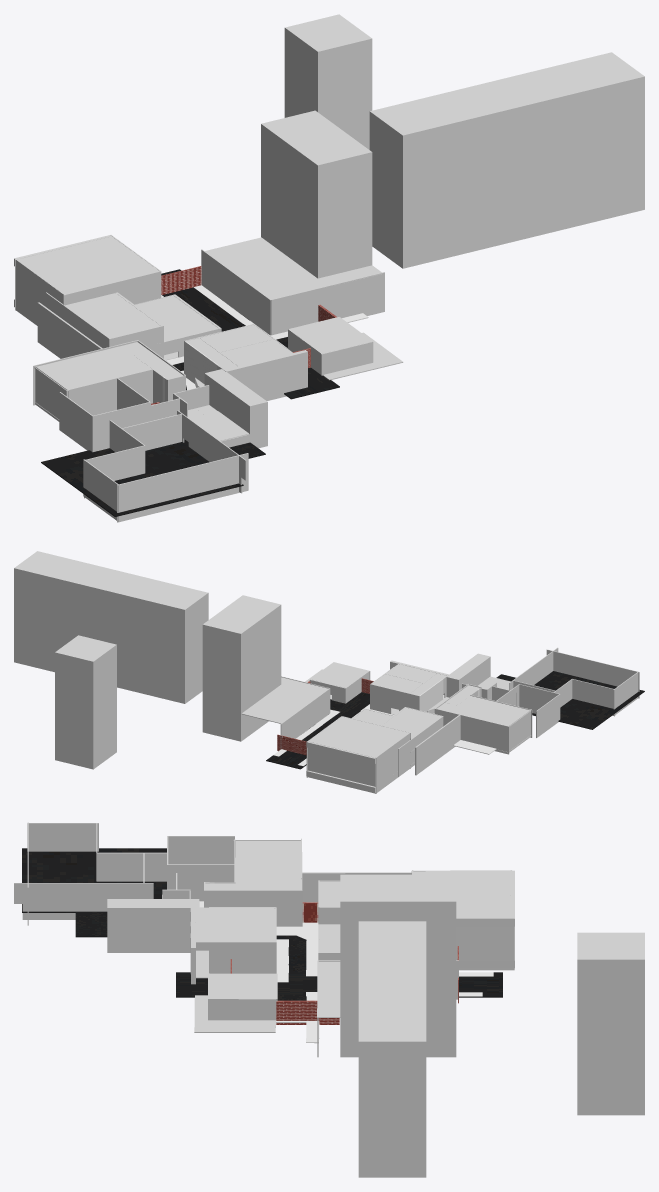
File: game.glb
3 views of the same model, one above another, from view 1: azimuth 30°, elevation 25°; view 2: azimuth 150°, elevation 25°; view 3: azimuth 270°, elevation 25° (orthographic). The views are drawn at different scales.
Visible parts, largest first — view 1: Cube.219, Cube.202, Cube.212, Cube.003, Cube.220, Cube.225, Cube.184, Cube.222, Cube.110, Cube.065, Cube.221, Cube.183 (+23 smaller); view 2: Cube.219, Cube.202, Cube.212, Cube.003, Cube.220, Cube.225, Cube.180, Cube.073, Cube.222, Cube.109, Cube.221, Cube.183 (+18 smaller); view 3: Cube.219, Cube.212, Cube.202, Cube.003, Cube.110, Cube.220, Cube.222, Cube.221, Cube.056, Cube.187, Cube.099, Cube.069 (+20 smaller).
Part boxes in pixels (<box>): Cube.219: <box>369,52,644,268</box>; Cube.202: <box>261,110,372,278</box>; Cube.212: <box>284,14,372,149</box>; Cube.003: <box>41,269,339,516</box>; Cube.220: <box>14,235,161,301</box>; Cube.225: <box>205,237,383,299</box>; Cube.184: <box>271,272,384,335</box>; Cube.222: <box>34,342,151,390</box>; Cube.110: <box>204,369,267,448</box>; Cube.065: <box>117,453,248,505</box>; Cube.221: <box>186,324,292,369</box>; Cube.183: <box>201,249,270,335</box>; Cube.219: <box>14,551,208,703</box>; Cube.202: <box>202,595,281,741</box>; Cube.212: <box>55,635,116,769</box>; Cube.003: <box>266,671,644,769</box>; Cube.220: <box>306,716,410,763</box>; Cube.225: <box>241,677,328,723</box>; Cube.180: <box>308,741,376,793</box>; Cube.073: <box>435,708,509,754</box>; Cube.222: <box>437,696,530,726</box>; Cube.109: <box>415,714,460,775</box>; Cube.221: <box>371,664,446,695</box>; Cube.183: <box>280,688,330,749</box>; Cube.219: <box>358,921,426,1177</box>; Cube.212: <box>577,932,644,1115</box>; Cube.202: <box>340,874,456,1057</box>; Cube.003: <box>22,848,502,1000</box>; Cube.110: <box>107,899,199,952</box>; Cube.220: <box>413,870,514,926</box>; Cube.222: <box>235,841,301,890</box>; Cube.221: <box>195,908,275,943</box>; Cube.056: <box>14,883,153,903</box>; Cube.187: <box>456,918,514,970</box>; Cube.099: <box>209,942,276,973</box>; Cube.069: <box>168,836,234,864</box>.
Bounding box in the file's own units: 1650 × 363 × 1273.
Materials: 168 (22 with a texture image).
